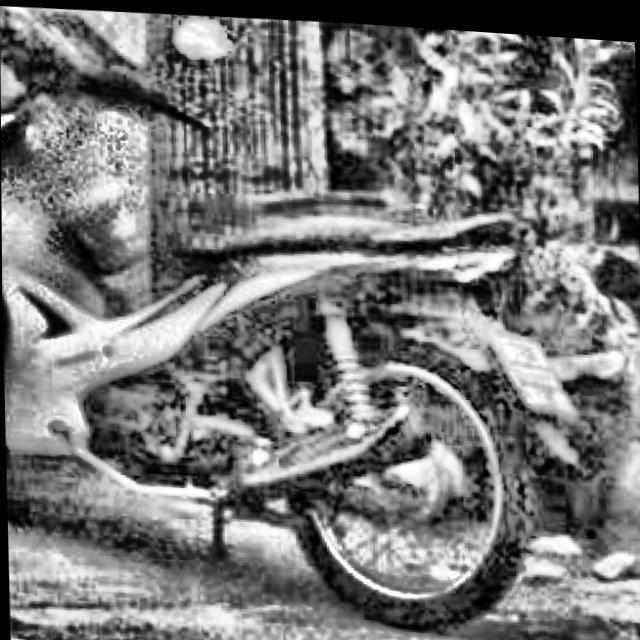motorcycle: (0, 0, 601, 640)
